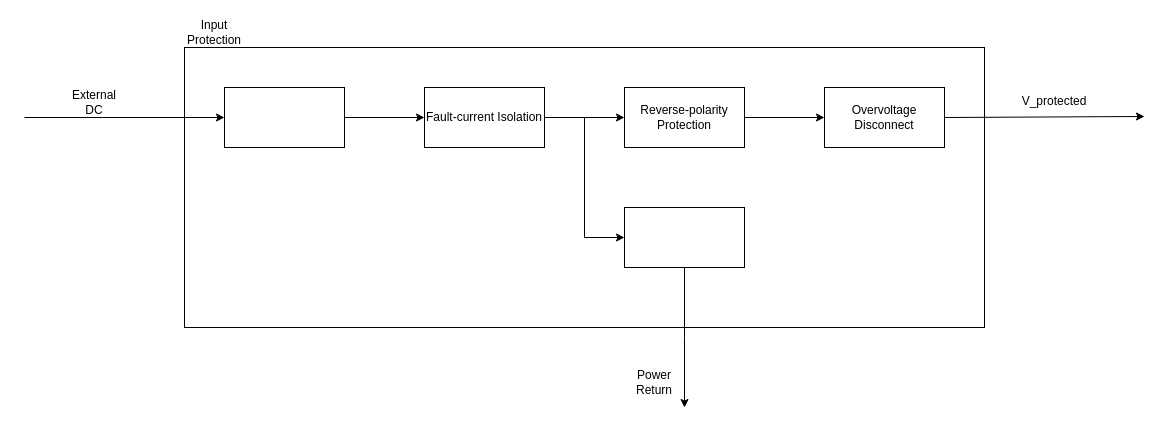
Image size: 1170x433. Some labels were removed from this diagram. The box of each missing label's shape, as (x1, y1, x2, y2) in pixels:
Input Interface: (224, 86, 344, 148)
Transient Suppression: (624, 206, 744, 268)
